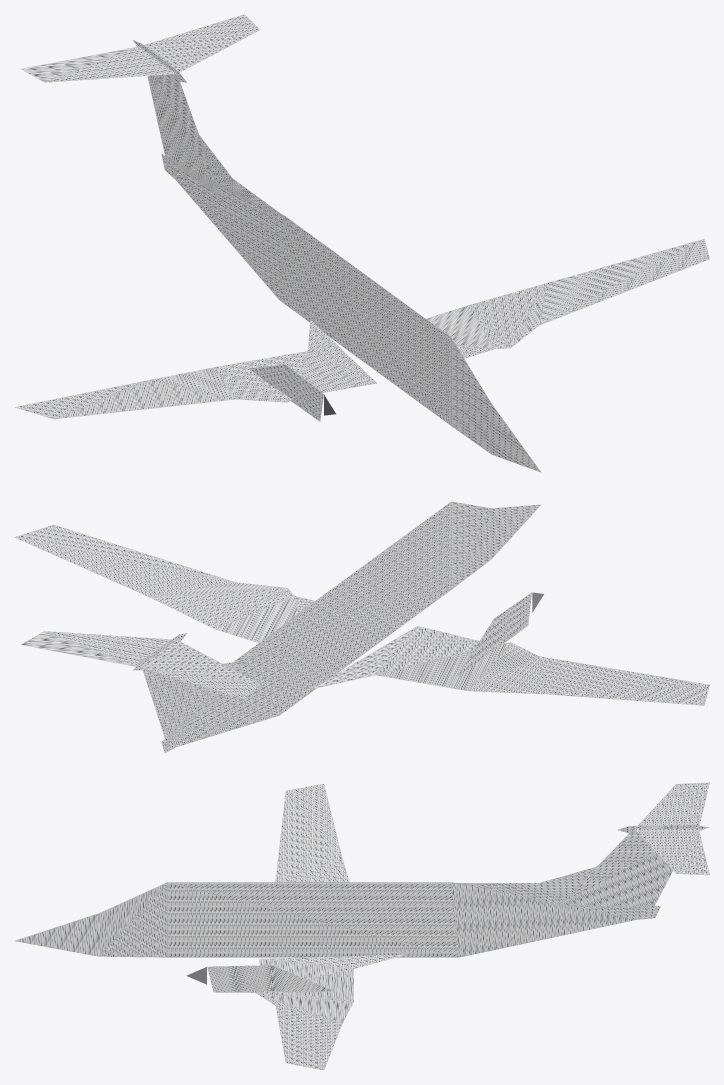
File: HTAI Beechcraft 1900D MSFS_LOD1.gltf
The picture shows the model from 3 angles, top to bottom: view 1: azimuth 30°, elevation 25°; view 2: azimuth 150°, elevation 25°; view 3: azimuth 270°, elevation 25°; orthographic projection. The views are drawn at different scales.
Visible parts, largest first — view 1: node1; view 2: node1; view 3: node1.
Part boxes in pixels (bbox=[...]): node1: bbox=[14, 14, 709, 472]; node1: bbox=[14, 501, 709, 753]; node1: bbox=[15, 782, 709, 1070].
Bounding box in the file's own units: 17.34 × 3.74 × 17.79.
